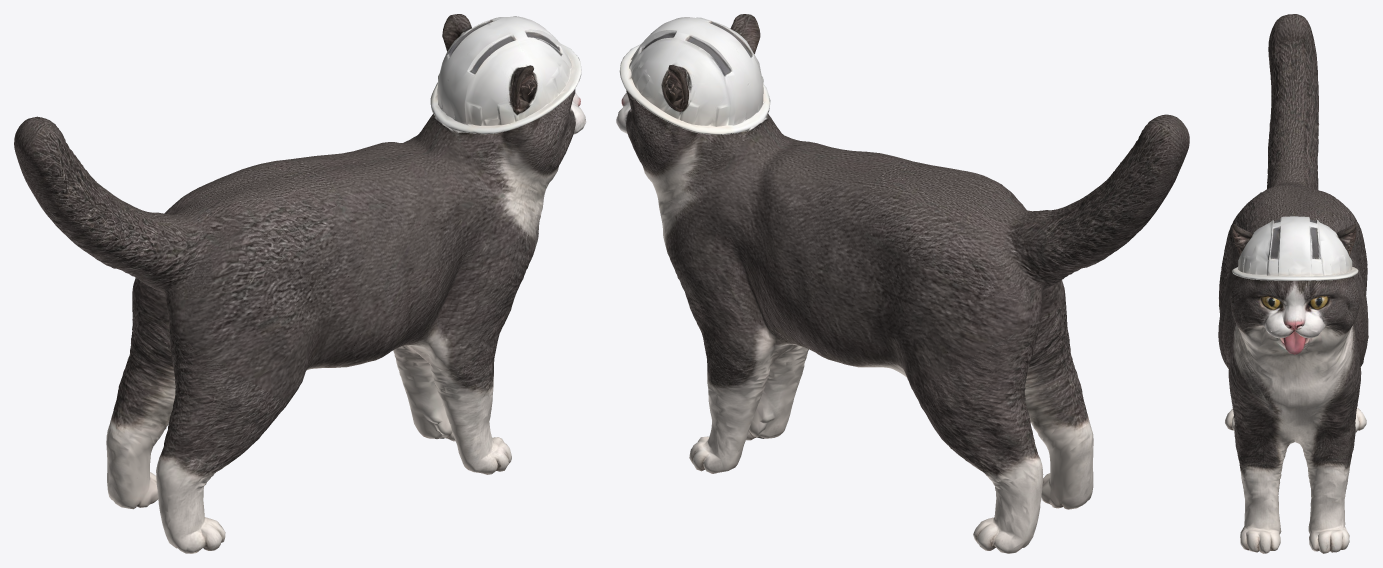
Rendered from YOSHINEKO.glb.
3 renders of one model, left to right at view 1: azimuth 30°, elevation 25°; view 2: azimuth 150°, elevation 25°; view 3: azimuth 270°, elevation 25°, orthographic. The views are drawn at different scales.
Visible parts, largest first — view 1: tripo_node_e050ab82-661b-4fae-a948-343df01fb6e7; view 2: tripo_node_e050ab82-661b-4fae-a948-343df01fb6e7; view 3: tripo_node_e050ab82-661b-4fae-a948-343df01fb6e7.
Boxes of the visible parts, left/top/right/bottom form: tripo_node_e050ab82-661b-4fae-a948-343df01fb6e7: left=14, top=14, right=586, bottom=553; tripo_node_e050ab82-661b-4fae-a948-343df01fb6e7: left=616, top=14, right=1189, bottom=553; tripo_node_e050ab82-661b-4fae-a948-343df01fb6e7: left=1218, top=14, right=1368, bottom=553.
Size of the model in its own units: 1.34 by 0.999 by 0.3774.
Materials: 1 (1 with a texture image).
